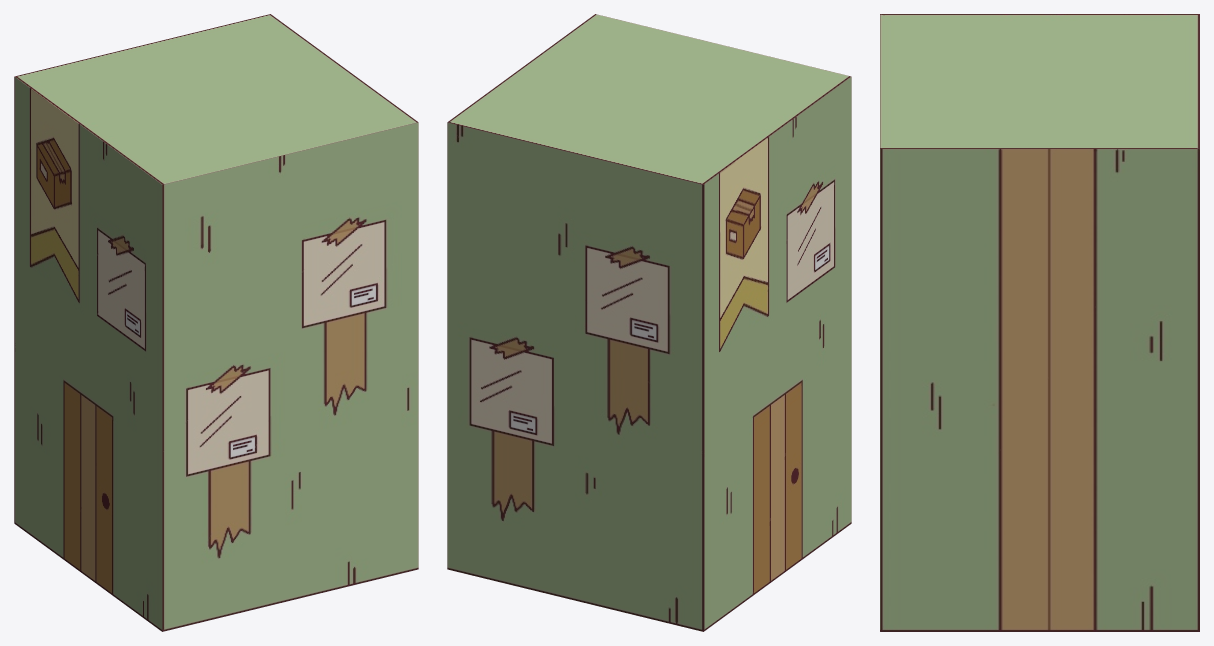
The model's file is dream_building10.fbx.
3 views of the same model, side by side, from view 1: azimuth 30°, elevation 25°; view 2: azimuth 150°, elevation 25°; view 3: azimuth 270°, elevation 25° (orthographic). The views are drawn at different scales.
Visible parts, largest first — view 1: Box001; view 2: Box001; view 3: Box001.
Boxes of the visible parts, box(x1,y1,x2,y2) form: Box001: box(14, 14, 418, 631); Box001: box(447, 14, 851, 631); Box001: box(880, 14, 1199, 631).
Size of the model in its own units: 360 by 600 by 360.
1 material, 1 textured.
